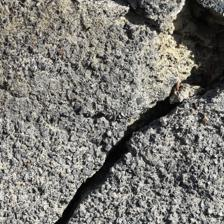Crack: (28, 46, 160, 176)
